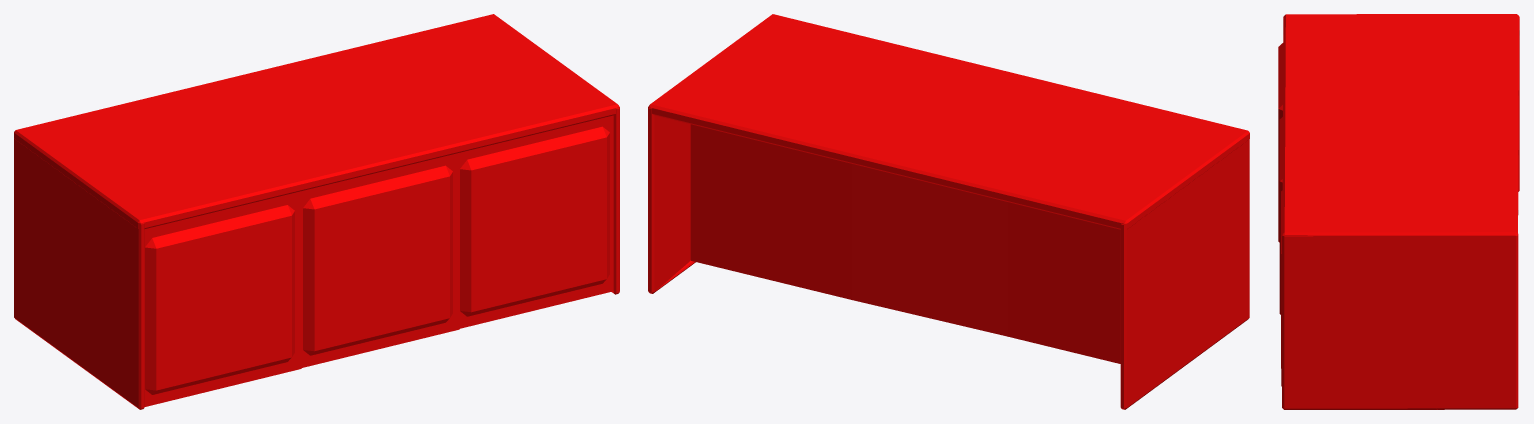
File: kitchenisland_Version_1000000000000.fbx
3 views of the same model, side by side, from view 1: azimuth 30°, elevation 25°; view 2: azimuth 150°, elevation 25°; view 3: azimuth 270°, elevation 25° (orthographic). The views are drawn at different scales.
Parts seen in each view (by area): view 1: polySurface161; view 2: polySurface161; view 3: polySurface161.
Boxes of the visible parts, left/top/right/bottom form: polySurface161: left=14, top=14, right=619, bottom=409; polySurface161: left=648, top=14, right=1249, bottom=409; polySurface161: left=1278, top=14, right=1519, bottom=409.
Size of the model in its own units: 2.96 by 1.11 by 1.37.
